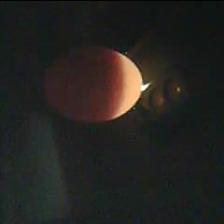fertile: (42, 46, 142, 124)
